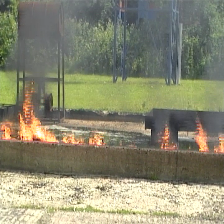fire_h: (19, 84, 59, 142), (193, 120, 209, 152), (160, 122, 177, 150)
fire_l: (1, 120, 17, 142), (60, 131, 86, 144), (88, 133, 104, 146), (213, 134, 224, 152)
